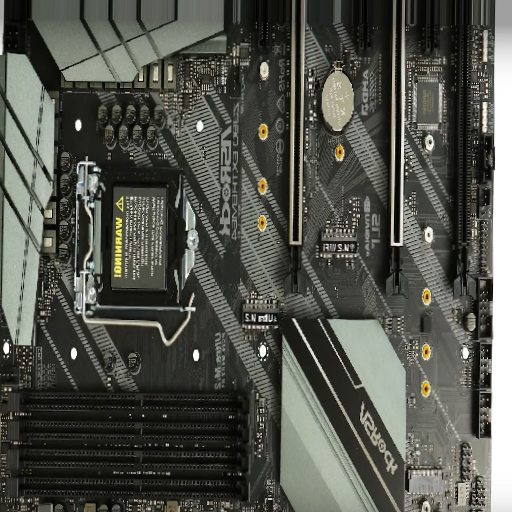CPU: (79, 164, 200, 308)
GPU: (280, 3, 312, 295), (381, 2, 412, 298), (451, 2, 481, 300)
MOTHERBOARD: (1, 2, 498, 512)
RAM: (2, 386, 259, 506)
SSD: (318, 230, 360, 265), (242, 298, 280, 335), (407, 464, 447, 495)
